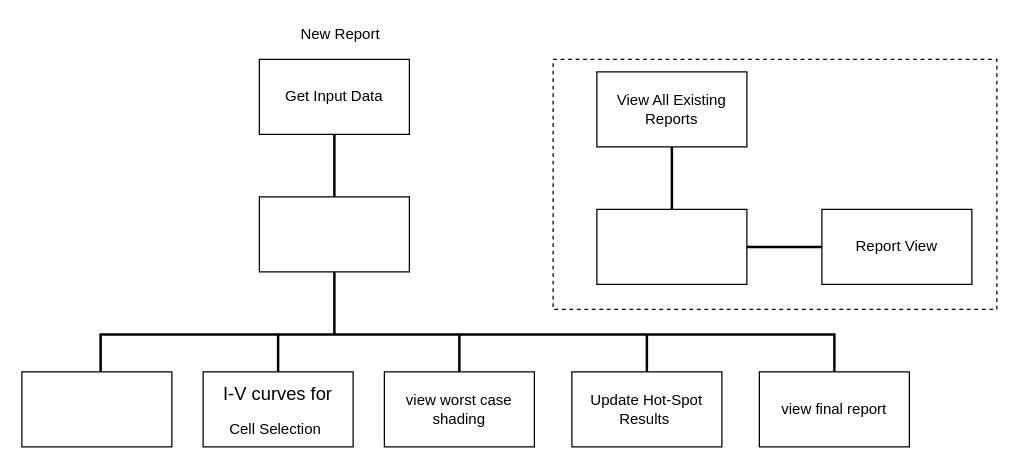
The diagram is 1019 pixels wide and 474 high, and some of its shapes have lost their labels. The box of each missing label's shape, as (x1, y1, x2, y2) in pixels:
Process Data: (258, 196, 409, 272)
Select a Report to View: (596, 208, 747, 284)
view 3 Selected Cells: (21, 371, 172, 447)
